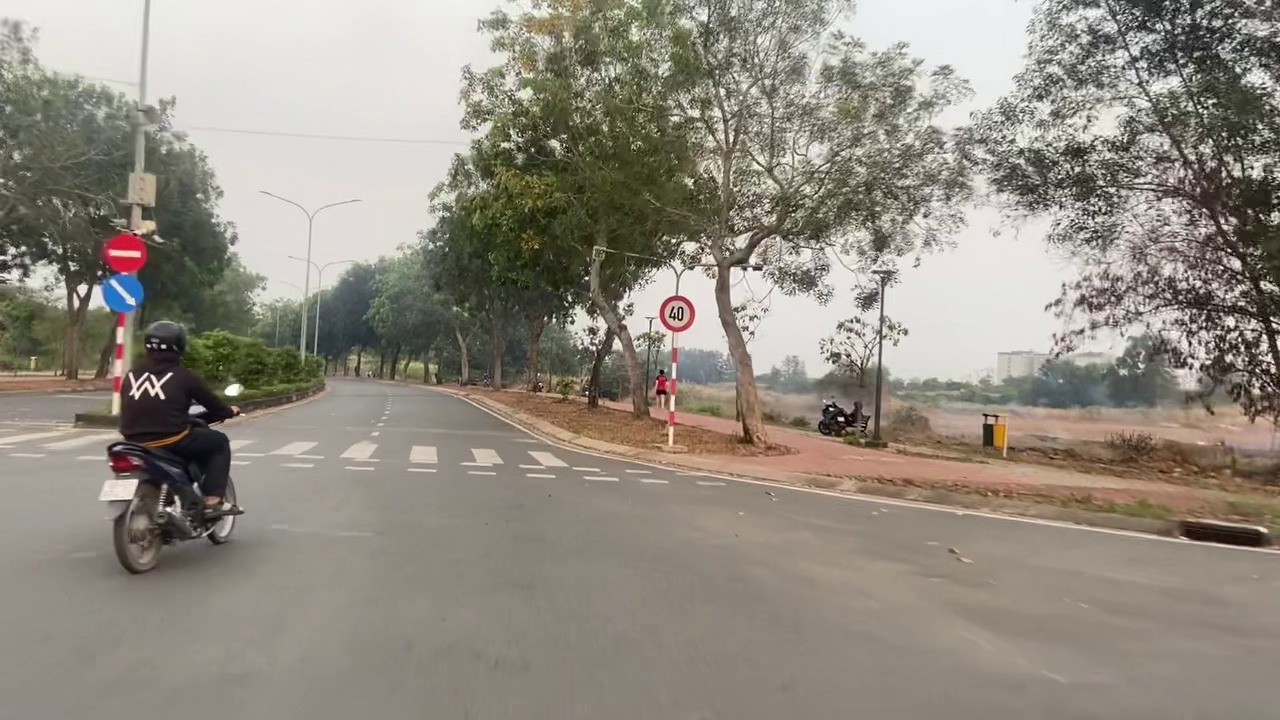cam_nguoc_chieu: (104, 234, 146, 273)
gioi_han_40km: (658, 296, 695, 333)
huong_phai_di_vong: (102, 274, 144, 313)
